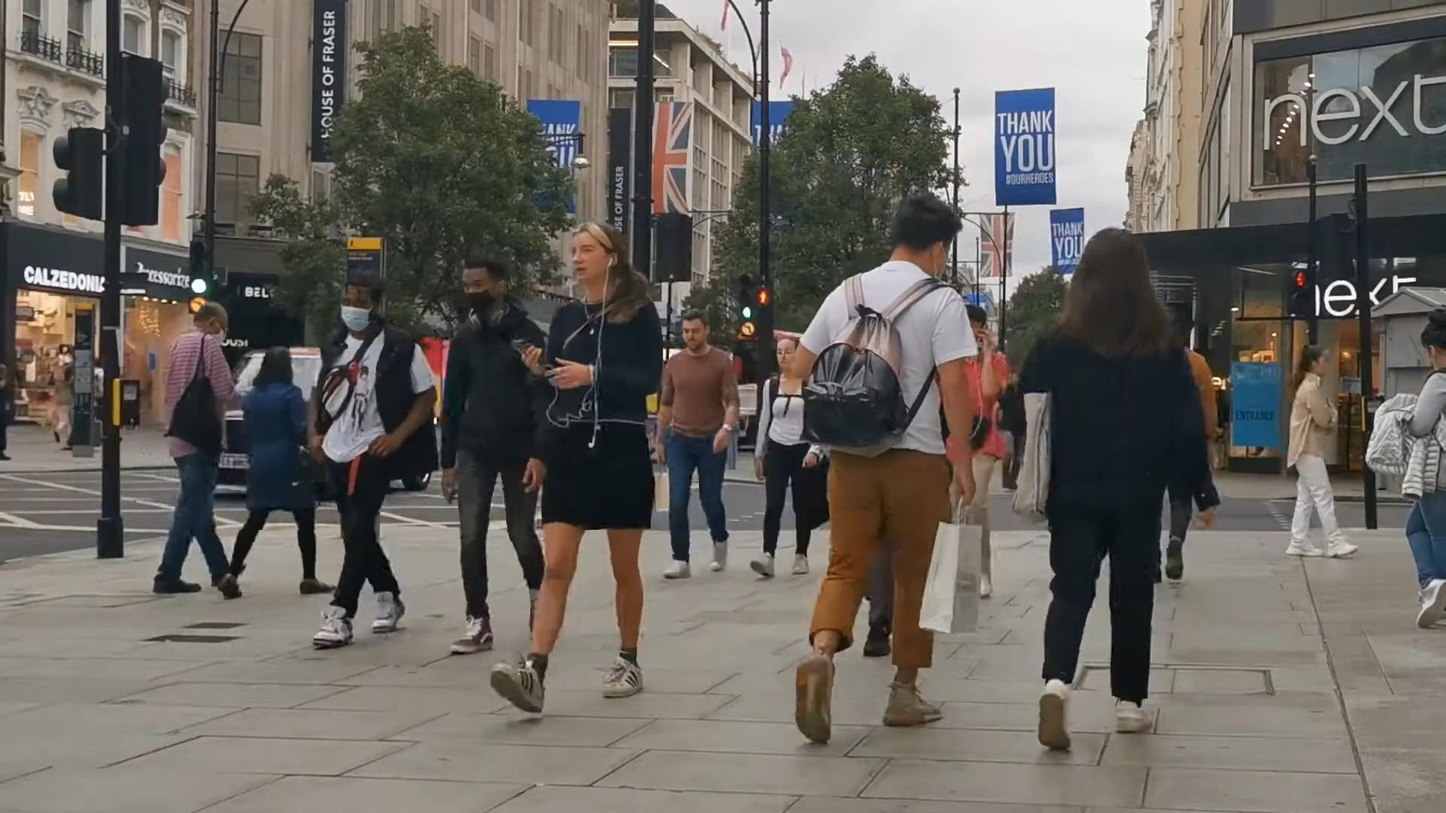no-helmet: (1066, 225, 1159, 328), (891, 193, 964, 280), (571, 219, 630, 285), (339, 268, 385, 334), (462, 252, 508, 313), (252, 346, 294, 389), (193, 301, 229, 345), (1421, 308, 1446, 370), (681, 307, 711, 351), (1297, 343, 1329, 377), (776, 336, 798, 369)
